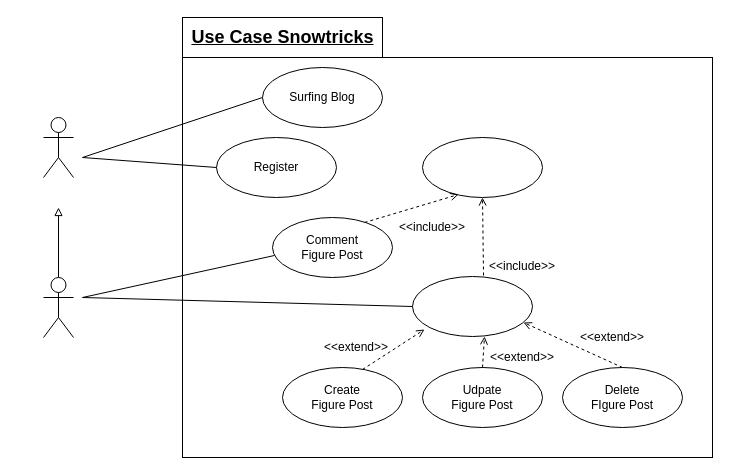
The diagram is 730 pixels wide and 475 high, and some of its shapes have lost their labels. Each missing label, with the box of its shape:
Authenticate: (422, 136, 542, 198)
connected user: (42, 276, 74, 338)
Management Figure Post: (412, 276, 532, 336)
visitor: (42, 116, 74, 178)
